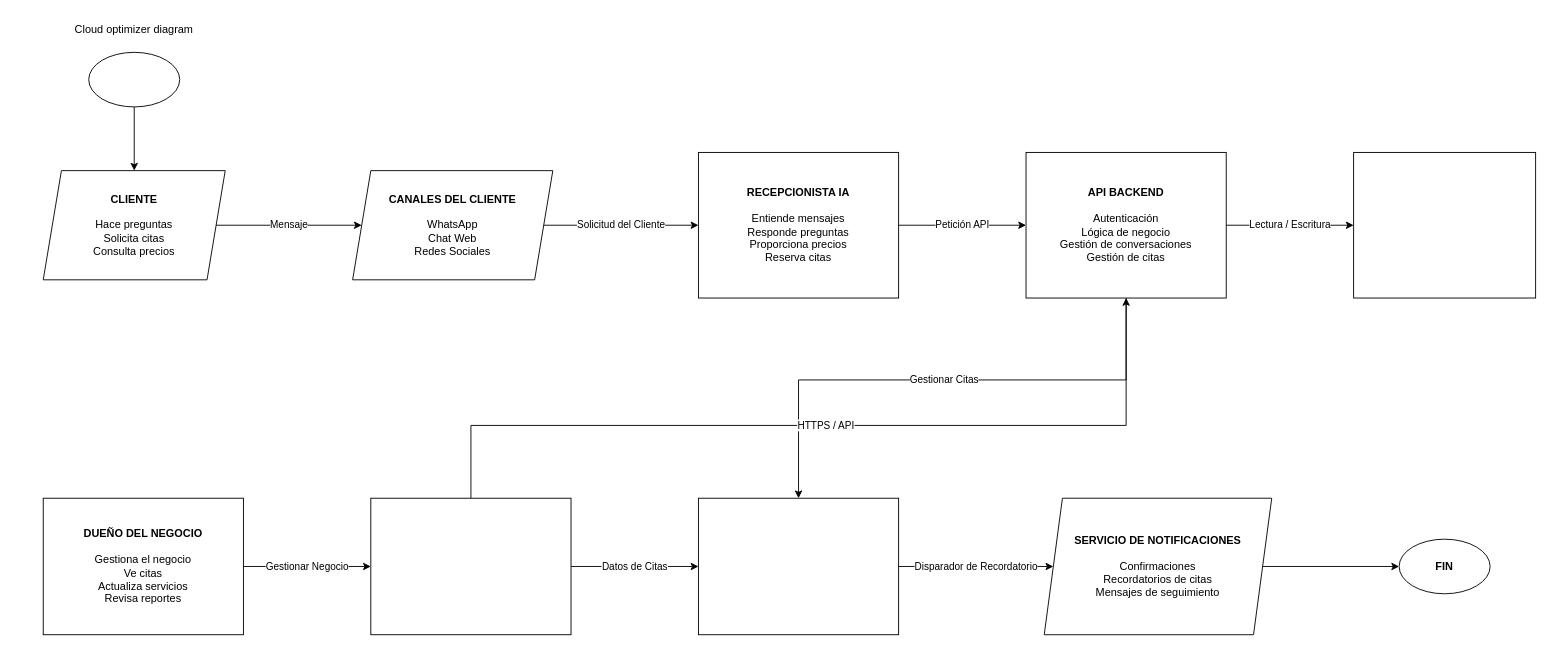
The diagram is 1552 pixels wide and 651 high, and some of its shapes have lost their labels. The centre of each missing label's shape, as x and y in pixels:
"BASE DE DATOS Clientes Citas Servicios y precios Conversaciones" goes at point 1444,225.
"INICIO" goes at point 134,79.
"PANEL DE CONTROL Citas Clientes Servicios Reportes" goes at point 470,566.
"SISTEMA DE CITAS Disponibilidad Reservas Reagendamiento Cancelación" goes at point 798,566.
